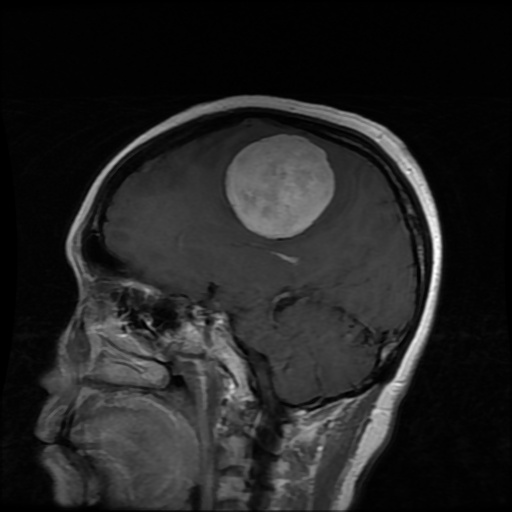meningioma: (225, 135, 335, 240)
